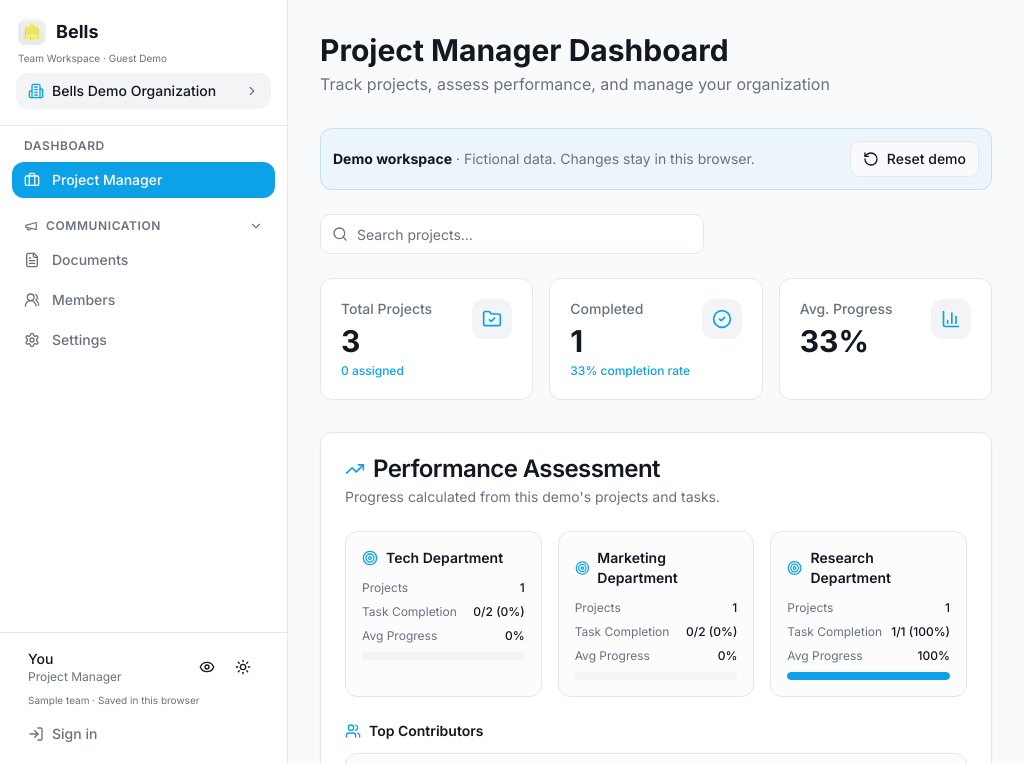
Scenario: Bells guest workspace › switches to a contributor view containing only the guest's assigned tasks
The width and height of the screenshot is (1024, 764).
Press Enter in the button named "Switch demo role", box [191,651,223,683]
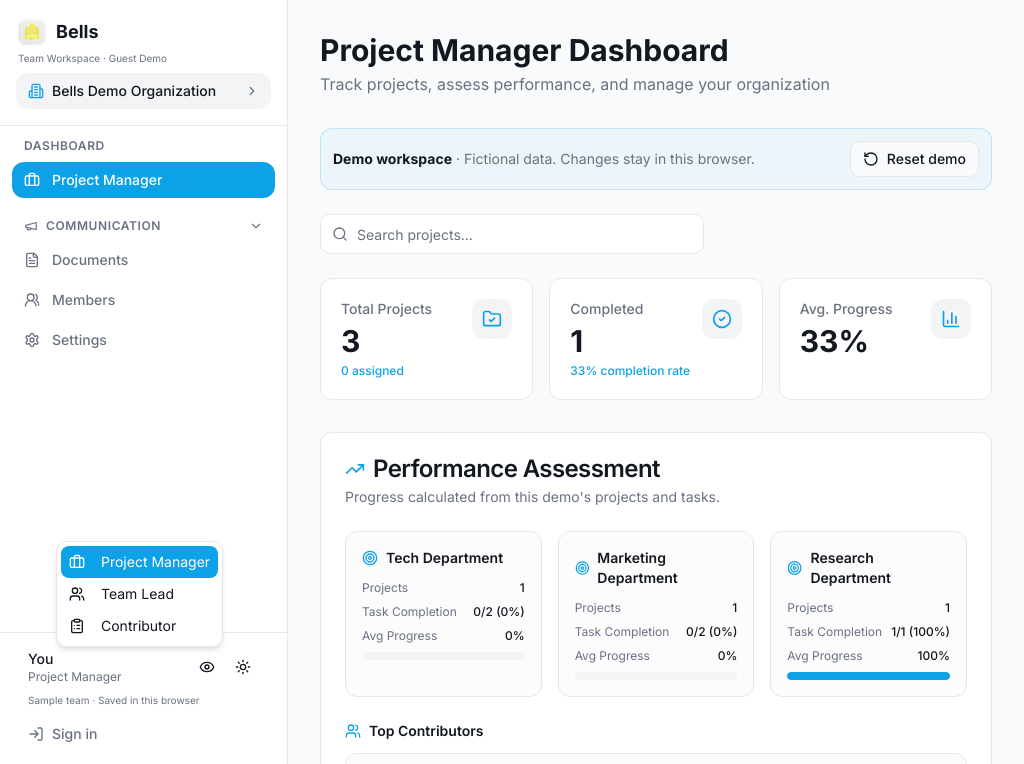
Click the menu item "Contributor" at (123, 626), box [69,617,176,634]
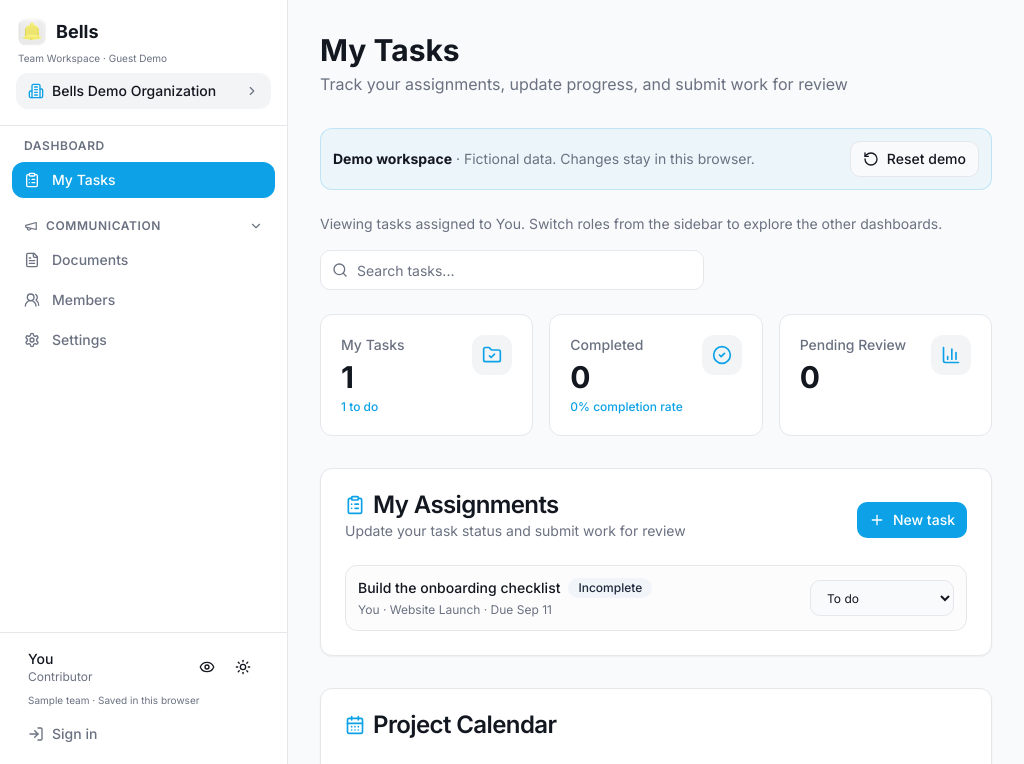
Check: the heading "My Tasks" is shown, box [320,32,460,68]
Check: the number of buttons named "Open task:" is 1, box [358,578,798,618]
Click the button "New task" at (912, 520), box [857,502,967,538]
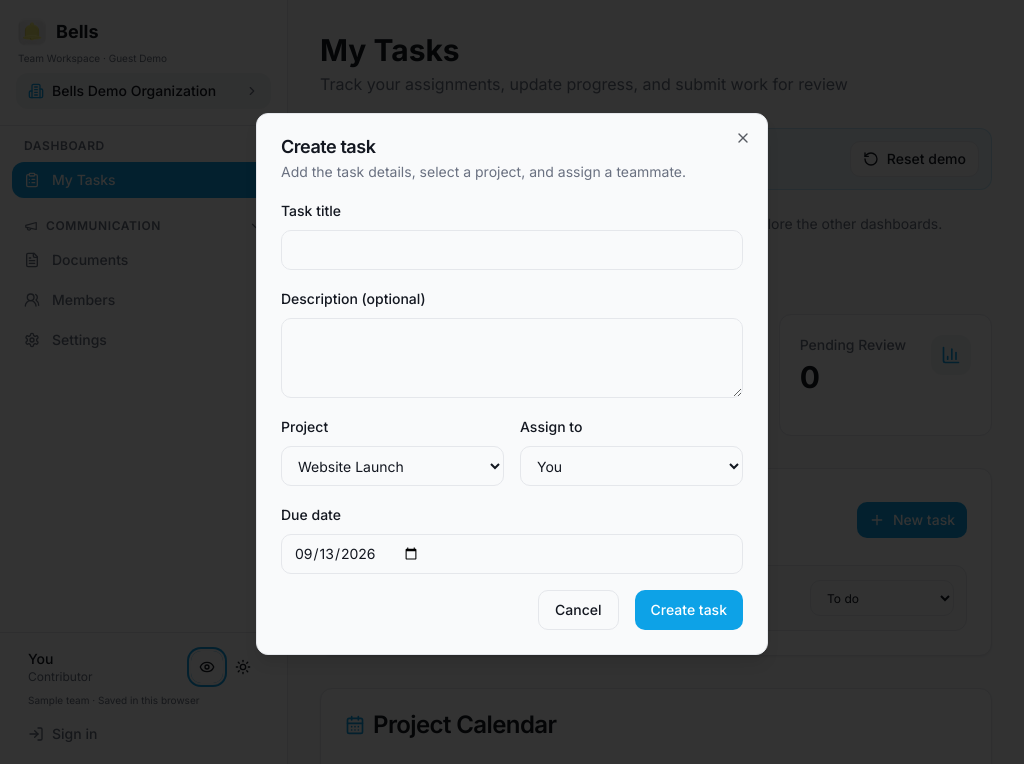
Check: the dropdown labelled "Assign to" shows "You", box [520,446,743,486]
